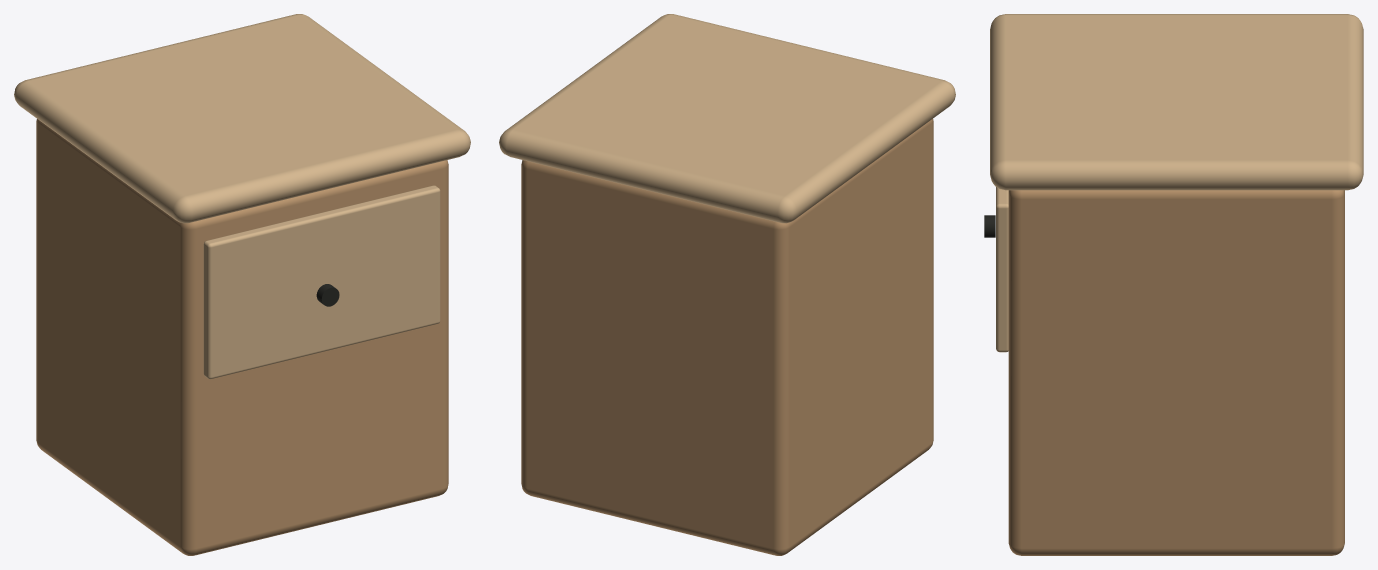
File: sideTable.glb
The picture shows the model from 3 angles, left to right: view 1: azimuth 30°, elevation 25°; view 2: azimuth 150°, elevation 25°; view 3: azimuth 270°, elevation 25°; orthographic projection. The views are drawn at different scales.
Parts seen in each view (by area): view 1: studio/oak, studio/oakLight; view 2: studio/oak, studio/oakLight; view 3: studio/oak, studio/oakLight.
Boxes of the visible parts, <box> form: studio/oak: <box>36,119,448,555</box>; studio/oakLight: <box>14,14,470,379</box>; studio/oak: <box>521,119,933,555</box>; studio/oakLight: <box>499,14,955,223</box>; studio/oak: <box>1008,190,1344,555</box>; studio/oakLight: <box>990,14,1363,352</box>.
Bounding box in the file's own units: 0.4 × 0.474 × 0.406.
